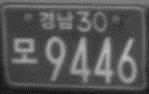0: (92, 11, 107, 33)
3: (76, 10, 91, 31)
4: (69, 37, 91, 83), (93, 37, 115, 82)
6: (117, 38, 138, 84)
9: (44, 35, 67, 81)
경남_O: (38, 10, 73, 29)
모: (11, 37, 38, 64)
